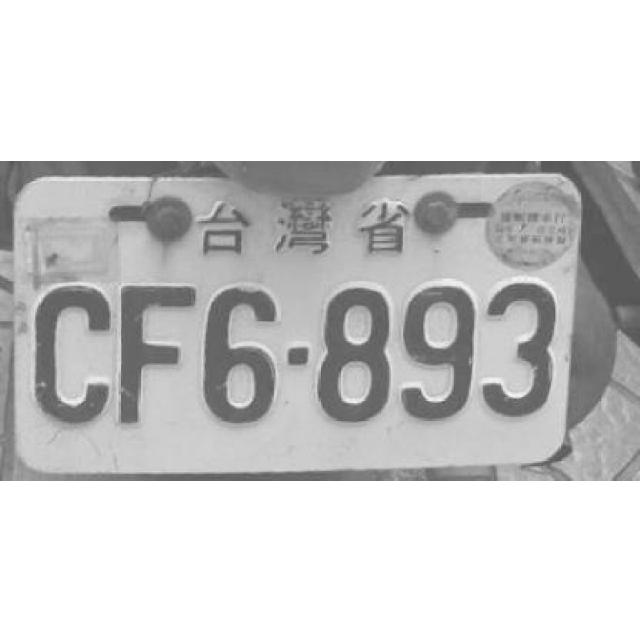-: (284, 340, 310, 369)
3: (477, 272, 558, 428)
6: (196, 277, 282, 435)
8: (312, 277, 394, 432)
9: (394, 272, 478, 430)
C: (28, 272, 115, 432)
F: (112, 272, 194, 432)
